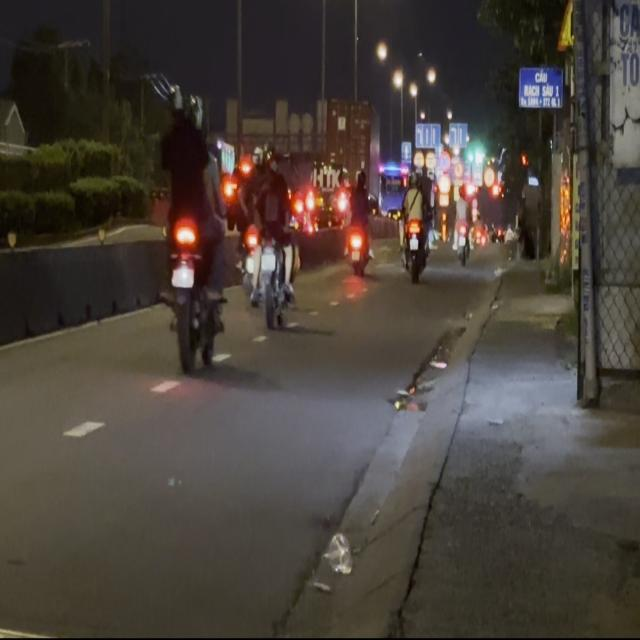helmet: (168, 84, 188, 122)
licenseplate: (157, 82, 228, 372)
nohelmet: (171, 265, 194, 287)
